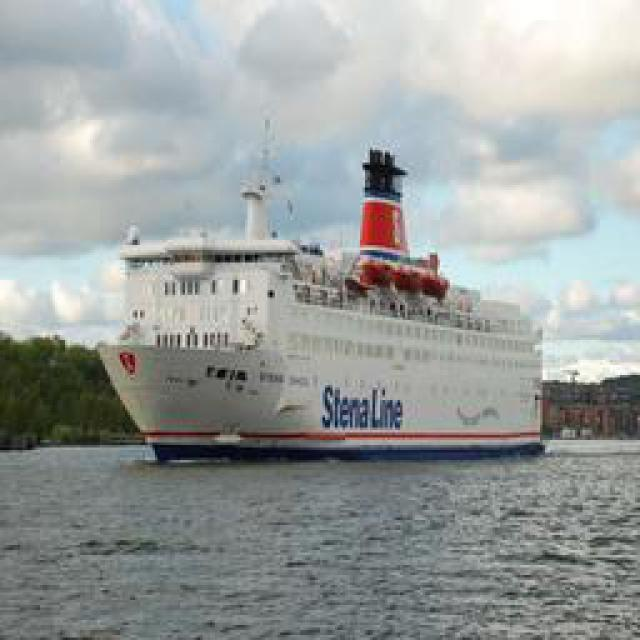Ship: (97, 135, 550, 460)
